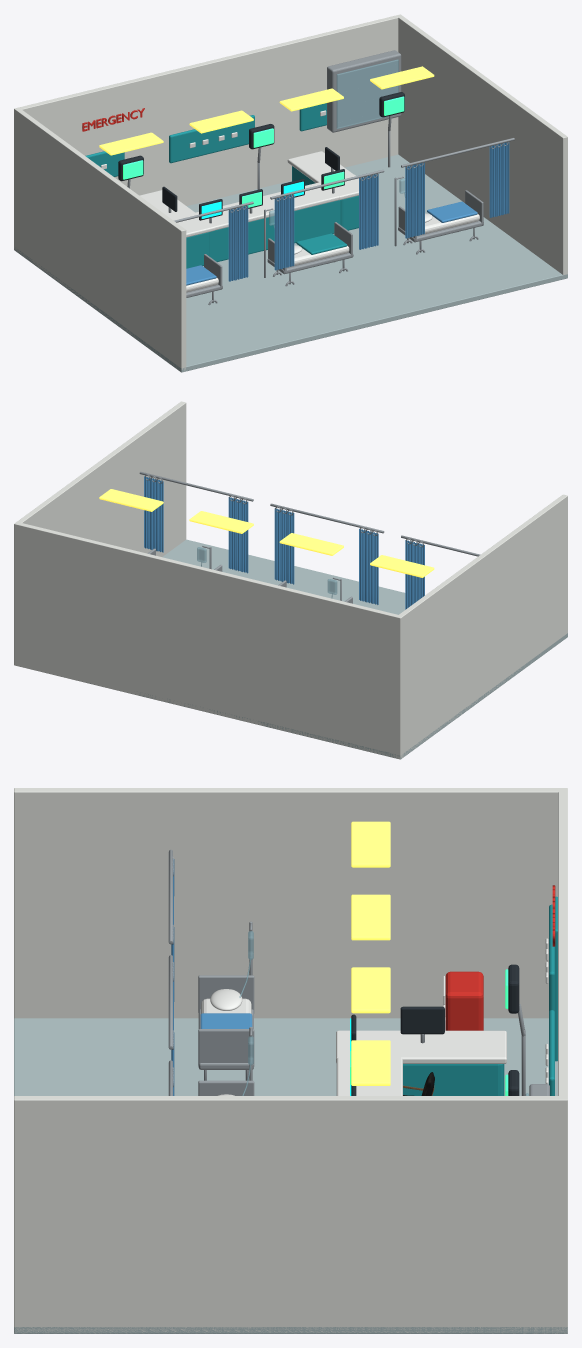
Rendered from hospital_emergency_nurse_station.glb.
3 views of the same model, one above another, from view 1: azimuth 30°, elevation 25°; view 2: azimuth 150°, elevation 25°; view 3: azimuth 270°, elevation 25° (orthographic). The views are drawn at different scales.
Visible parts, largest first — view 1: RefinedSurface_Hospital_WarmWall, Hospital_Floor, RefinedSurface_Hospital_BrushedSteel, RefinedSurface_Hospital_PrivacyBlue, RefinedSurface_Hospital_TealPanel, RefinedSurface_Hospital_CleanWhite, RefinedSurface_Hospital_WarmLight, RefinedSurface_Hospital_Glass, RefinedSurface_Hospital_DisplayFrame, RefinedSurface_Hospital_VitalGreen, RefinedSurface_Hospital_ScreenCyan; view 2: RefinedSurface_Hospital_WarmWall, RefinedSurface_Hospital_PrivacyBlue, Hospital_Floor, RefinedSurface_Hospital_WarmLight, RefinedSurface_Hospital_BrushedSteel; view 3: RefinedSurface_Hospital_WarmWall, Hospital_Floor, RefinedSurface_Hospital_WarmLight, RefinedSurface_Hospital_CleanWhite, RefinedSurface_Hospital_BrushedSteel, RefinedSurface_Hospital_TealPanel, RefinedSurface_Hospital_EmergencyRed, RefinedSurface_Hospital_DisplayFrame, RefinedSurface_Hospital_PrivacyBlue.
Boxes of the visible parts, <box> form: RefinedSurface_Hospital_WarmWall: <box>14,14,567,371</box>; Hospital_Floor: <box>14,154,567,372</box>; RefinedSurface_Hospital_BrushedSteel: <box>127,50,514,305</box>; RefinedSurface_Hospital_PrivacyBlue: <box>186,142,509,285</box>; RefinedSurface_Hospital_TealPanel: <box>85,103,358,268</box>; RefinedSurface_Hospital_CleanWhite: <box>101,110,479,292</box>; RefinedSurface_Hospital_WarmLight: <box>99,66,434,155</box>; RefinedSurface_Hospital_Glass: <box>269,59,405,228</box>; RefinedSurface_Hospital_DisplayFrame: <box>118,92,404,220</box>; RefinedSurface_Hospital_VitalGreen: <box>123,96,404,207</box>; RefinedSurface_Hospital_ScreenCyan: <box>201,181,303,218</box>; RefinedSurface_Hospital_WarmWall: <box>14,401,567,759</box>; RefinedSurface_Hospital_PrivacyBlue: <box>144,476,424,609</box>; Hospital_Floor: <box>90,539,567,759</box>; RefinedSurface_Hospital_WarmLight: <box>99,489,434,577</box>; RefinedSurface_Hospital_BrushedSteel: <box>139,471,480,603</box>; RefinedSurface_Hospital_WarmWall: <box>14,788,567,1333</box>; Hospital_Floor: <box>14,1018,567,1333</box>; RefinedSurface_Hospital_WarmLight: <box>351,821,390,1085</box>; RefinedSurface_Hospital_CleanWhite: <box>201,938,548,1095</box>; RefinedSurface_Hospital_BrushedSteel: <box>168,849,549,1095</box>; RefinedSurface_Hospital_TealPanel: <box>403,896,557,1095</box>; RefinedSurface_Hospital_EmergencyRed: <box>445,885,555,1030</box>; RefinedSurface_Hospital_DisplayFrame: <box>351,964,519,1095</box>; RefinedSurface_Hospital_PrivacyBlue: <box>171,859,252,1095</box>.
Size of the model in its own units: 12 by 4.22 by 9.
Materials: 15 (2 with a texture image).
